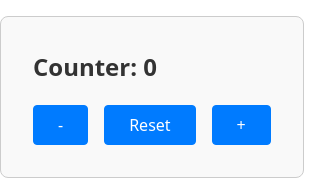
Test: Counter › increments count when + button is clicked
The image size is (321, 195).
What coordinates should you click on to do the following:
click the button named "increment"
I would click on:
 (241, 125)
Its box is [212, 105, 271, 145].
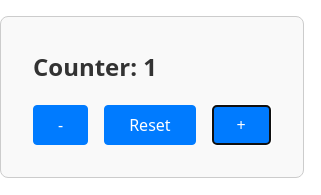
Expected: the heading "Counter: 1" is shown, [33, 50, 157, 83]
